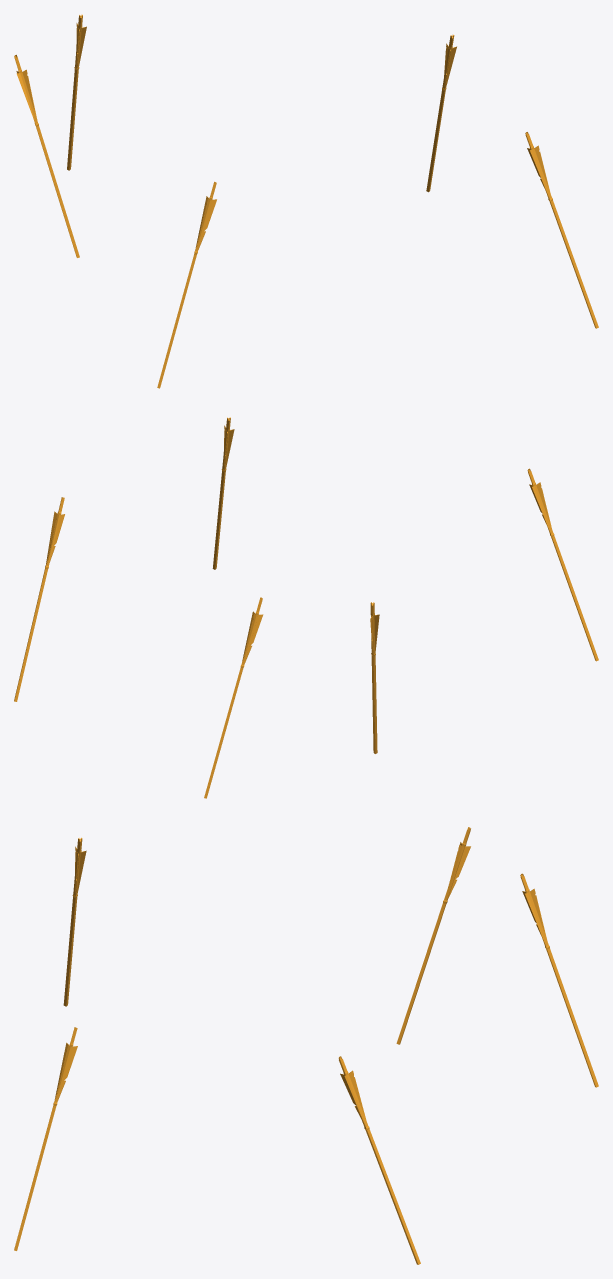
Rendered from SM_Arrows_Inground_A_Fantasy.fbx.
The picture shows the model from 3 angles, top to bottom: view 1: azimuth 30°, elevation 25°; view 2: azimuth 150°, elevation 25°; view 3: azimuth 270°, elevation 25°; orthographic projection. The views are drawn at different scales.
Visible parts, largest first — view 1: arrows-inground-a-fantasy; view 2: arrows-inground-a-fantasy; view 3: arrows-inground-a-fantasy.
Part boxes in pixels (x1,y1,x2,y2): arrows-inground-a-fantasy: [14, 14, 598, 388]; arrows-inground-a-fantasy: [14, 417, 598, 798]; arrows-inground-a-fantasy: [14, 827, 598, 1264].
Size of the model in its own units: 2.08 by 0.9786 by 2.23.
